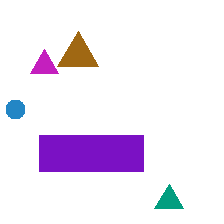circle: (6, 100, 24, 118)
rectangle: (39, 135, 143, 171)
triangle: (57, 31, 98, 66), (154, 184, 183, 208), (30, 49, 58, 73)
